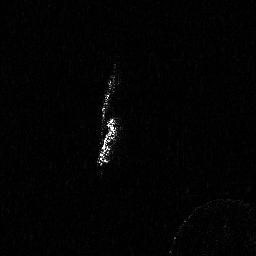ship: (94, 61, 122, 175)
